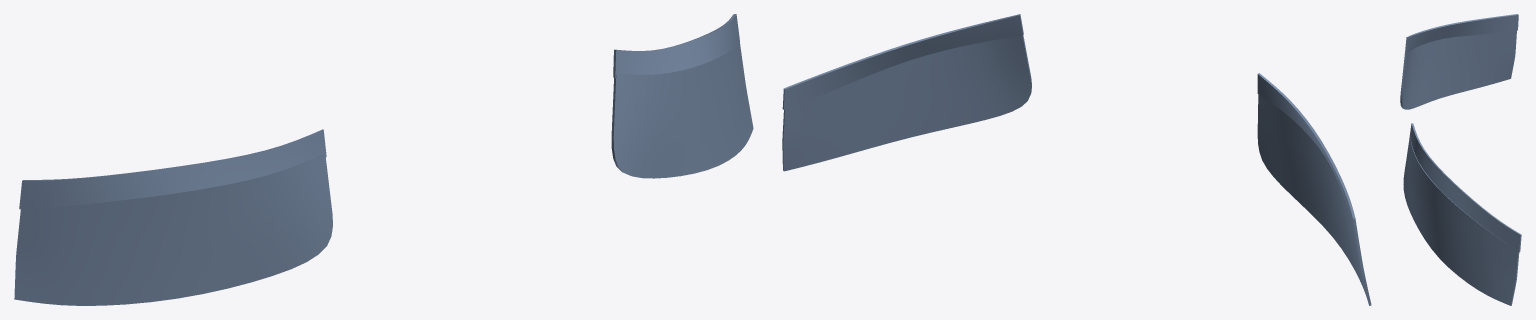
Rendered from SM_CarlosSA_Jacket_WaistPockets_SlantedFlap.fbx.
3 renders of one model, left to right at view 1: azimuth 30°, elevation 25°; view 2: azimuth 150°, elevation 25°; view 3: azimuth 270°, elevation 25°, orthographic. The views are drawn at different scales.
Parts seen in each view (by area): view 1: SM_CarlosSA_Jacket_WaistPockets_SlantedFlap; view 2: SM_CarlosSA_Jacket_WaistPockets_SlantedFlap; view 3: SM_CarlosSA_Jacket_WaistPockets_SlantedFlap.
Boxes of the visible parts, box(x1,y1,x2,y2) form: SM_CarlosSA_Jacket_WaistPockets_SlantedFlap: box(14, 14, 753, 305); SM_CarlosSA_Jacket_WaistPockets_SlantedFlap: box(782, 14, 1371, 305); SM_CarlosSA_Jacket_WaistPockets_SlantedFlap: box(1400, 14, 1521, 305).
Size of the model in its own units: 0.3285 by 0.0811 by 0.0759.
